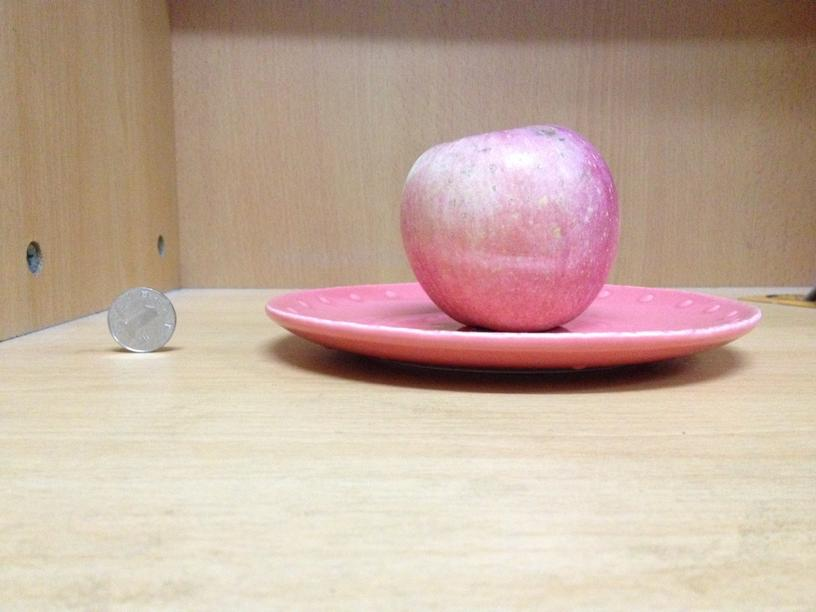apple: (403, 120, 618, 330)
coin: (107, 288, 175, 353)
